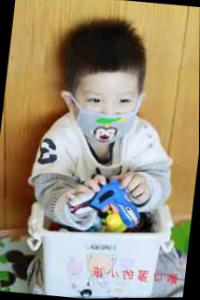WRONG: (76, 81, 140, 150)
